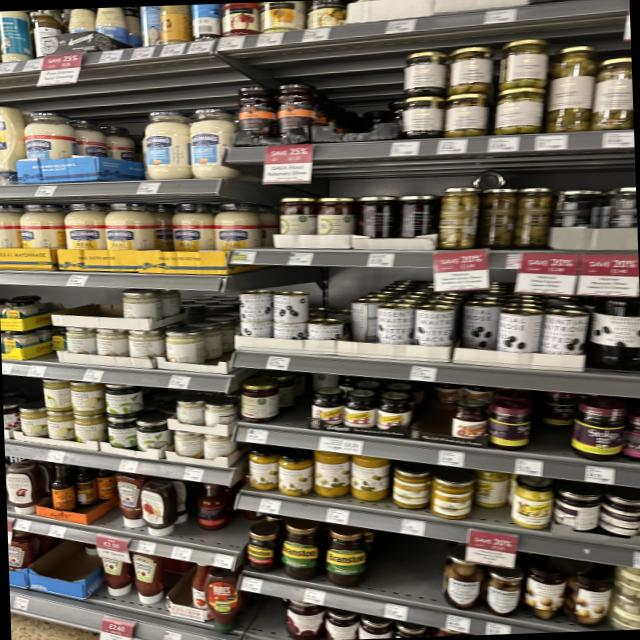mayonaise: (188, 108, 238, 180), (25, 111, 72, 178), (108, 196, 158, 258), (170, 200, 218, 258), (61, 200, 107, 260), (218, 202, 262, 262), (23, 200, 63, 264), (68, 120, 109, 174), (0, 105, 25, 183), (0, 202, 26, 260), (105, 127, 138, 168)
olives: (538, 44, 590, 134), (579, 294, 640, 365), (592, 57, 634, 132), (495, 39, 546, 87), (493, 305, 538, 357), (495, 85, 542, 134), (540, 302, 581, 358), (393, 194, 438, 243), (404, 50, 451, 96), (448, 43, 494, 90), (478, 184, 510, 250), (440, 186, 472, 248), (514, 186, 544, 250), (556, 186, 600, 229), (447, 91, 488, 136), (398, 96, 440, 138), (462, 301, 498, 349), (274, 196, 317, 236), (357, 192, 395, 236), (376, 304, 414, 348), (356, 294, 388, 342), (318, 193, 350, 238), (270, 291, 312, 325), (232, 315, 280, 344), (233, 287, 271, 320), (418, 304, 448, 345), (307, 317, 333, 345), (274, 321, 303, 344)
